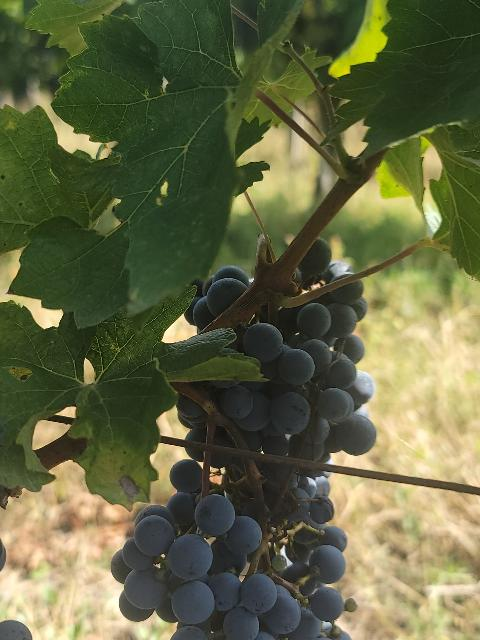grapes: (111, 459, 354, 640), (191, 280, 376, 462), (258, 462, 334, 529), (185, 266, 250, 330), (299, 239, 351, 290), (176, 394, 209, 442), (186, 449, 202, 461)
